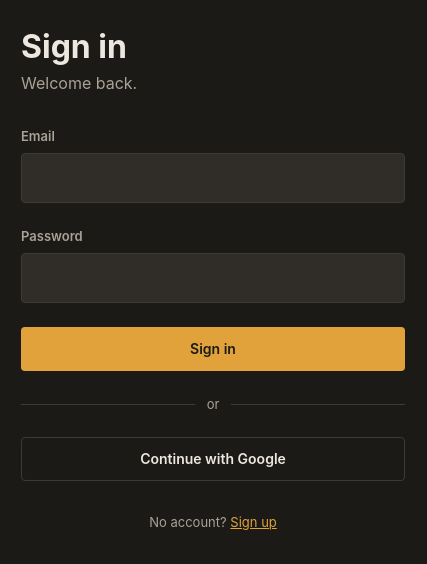
Test: SignInForm (AUTH-01) › shows an inline error when Google sign-in fails to go through
Click the button "Continue with Google" at (213, 459), box 21,437 -> 405,481
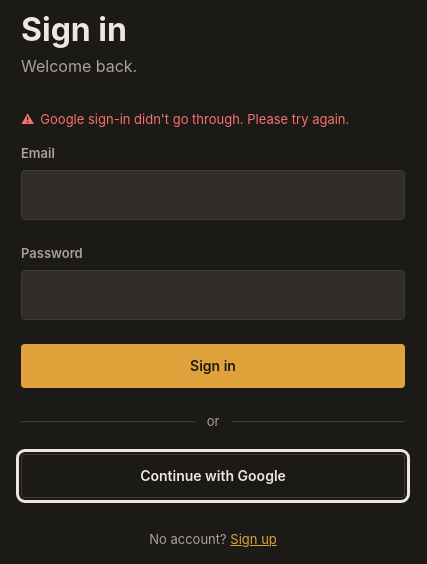
Check: the message shows "didn't go through", box 40,111 -> 349,127
